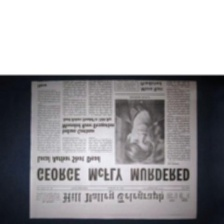news_paper: (22, 78, 199, 221)
